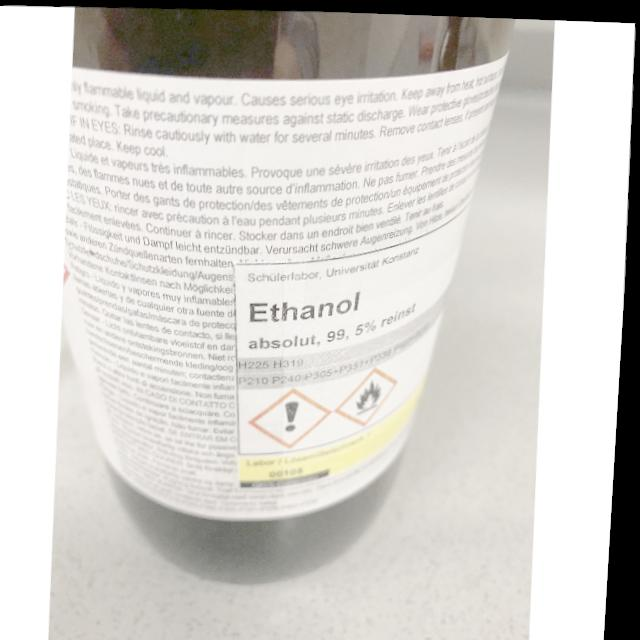flammable: (360, 376, 386, 413)
health-ozone layer hazard: (288, 397, 305, 429)
